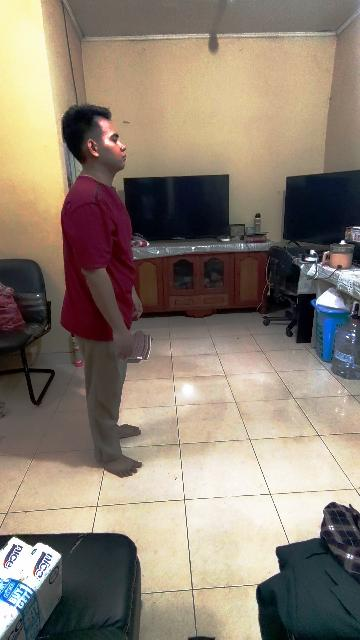berdiri: (63, 102, 149, 478)
